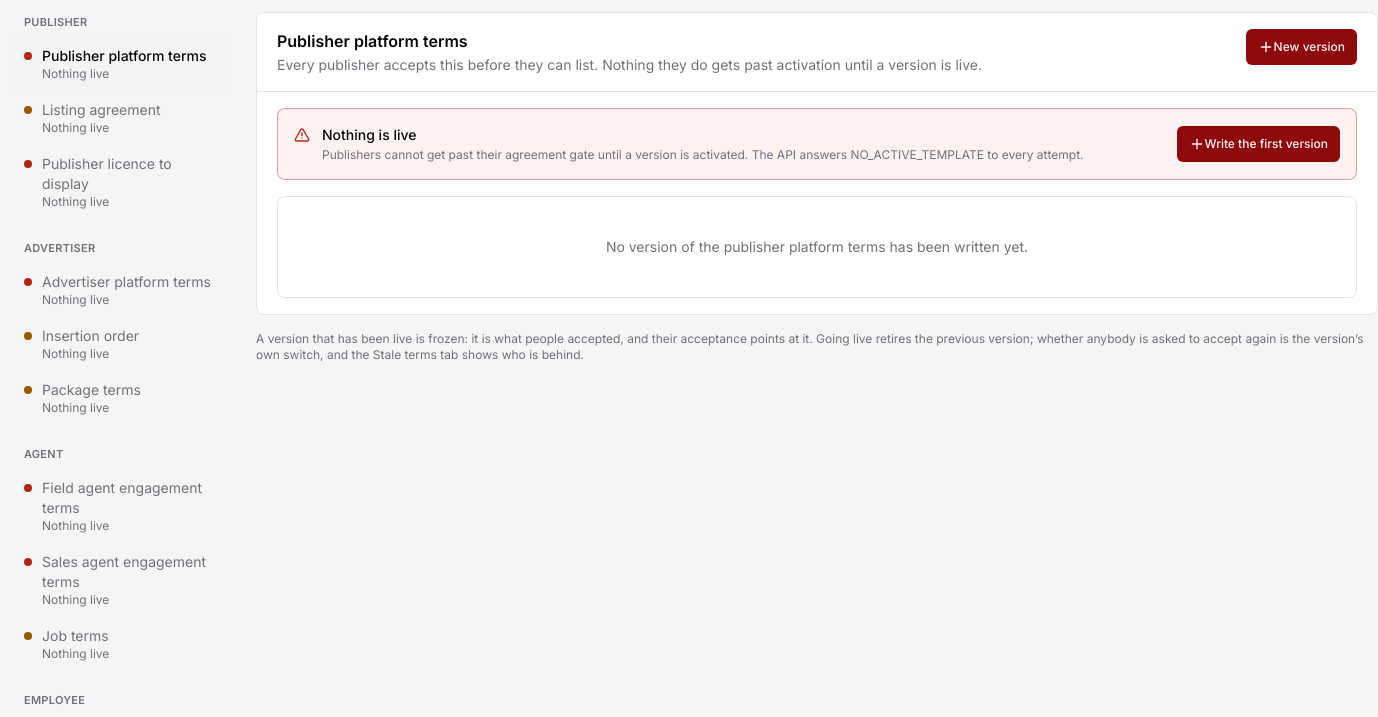
Scenario: before anything is written › moves to the advertiser side from the rail and says the same for them
The width and height of the screenshot is (1378, 717).
Click the button "Advertiser platform terms Nothing live" at (122,290), box [12,264,232,316]
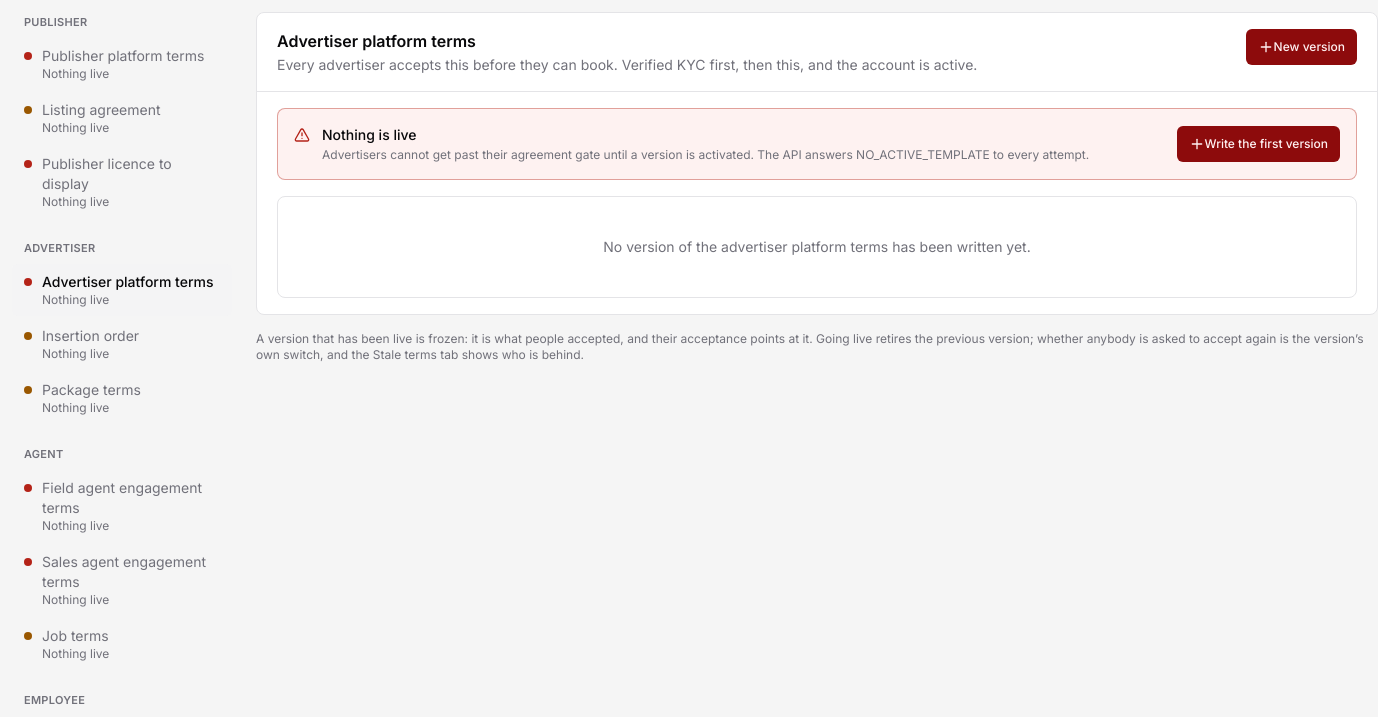
Expected: the text "Advertisers cannot get past their agreement gate" is shown, [322,147,1089,162]
